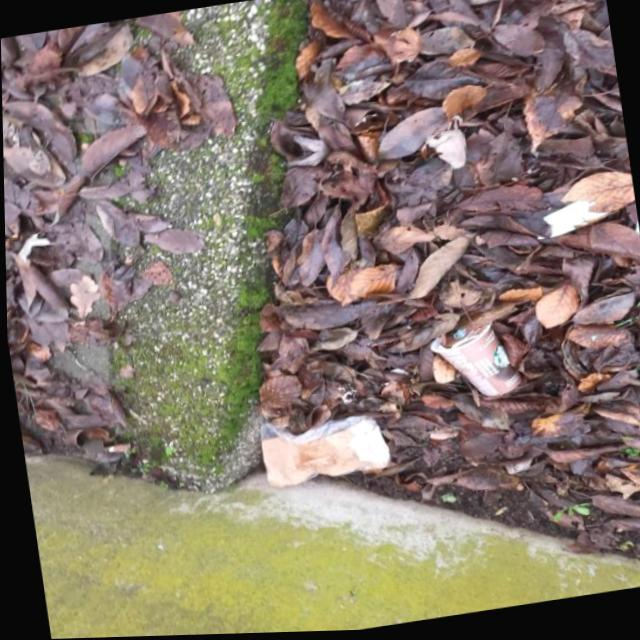Cup: (422, 315, 524, 409)
